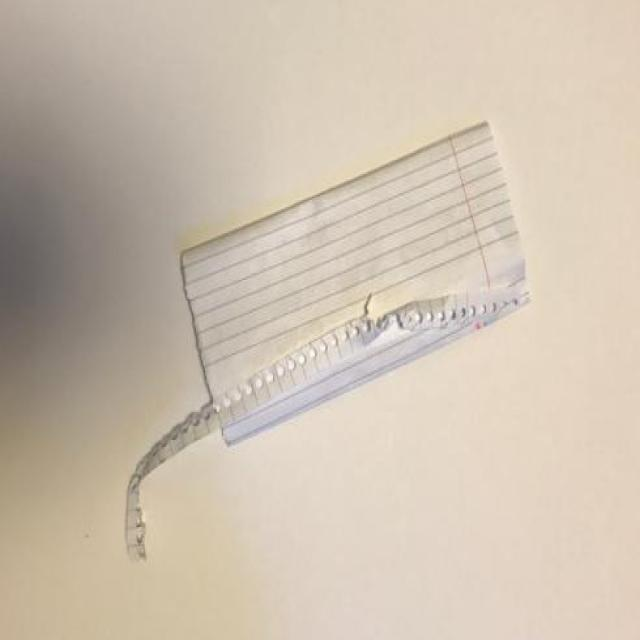kertas: (124, 117, 533, 563)
